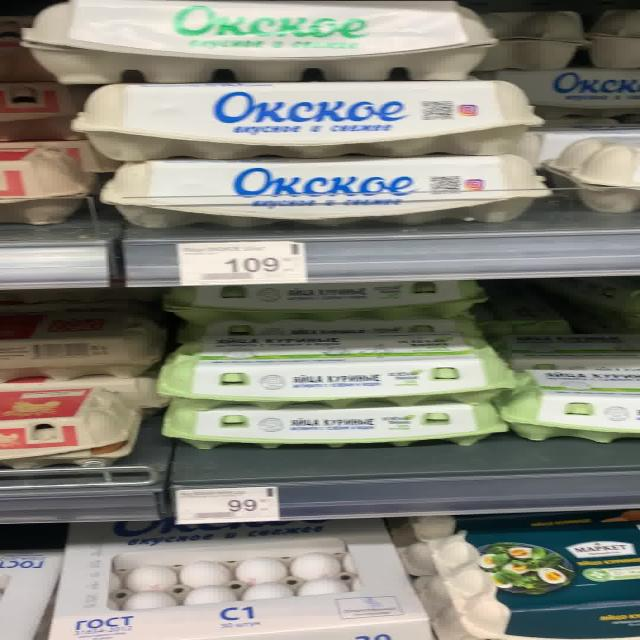egg box: (52, 522, 431, 636), (24, 0, 497, 85), (76, 84, 530, 159), (100, 159, 548, 225), (432, 522, 636, 638), (166, 336, 507, 399), (163, 400, 500, 444)
